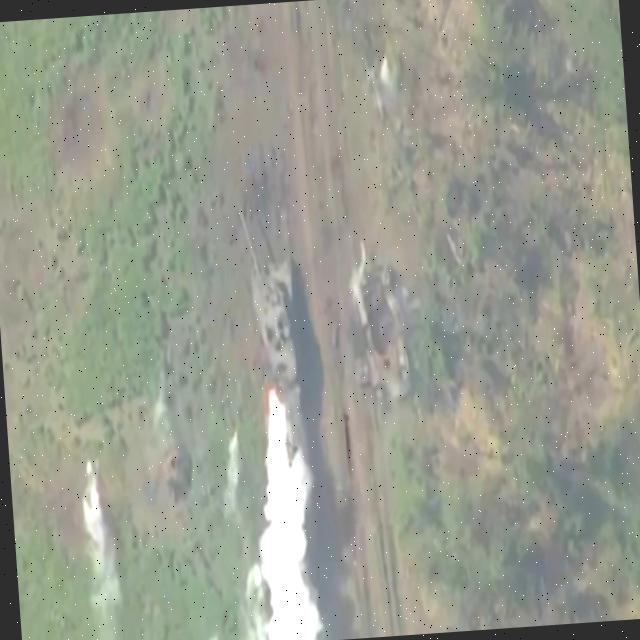Destroyed: (354, 255, 414, 410)
MBT: (239, 201, 308, 417)
